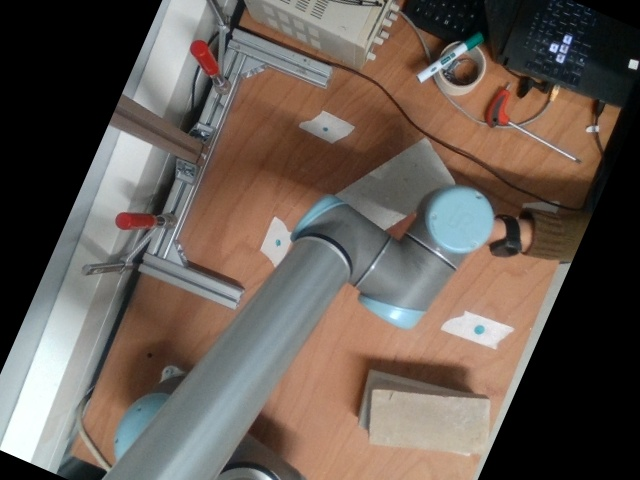brick: (371, 392, 490, 454)
